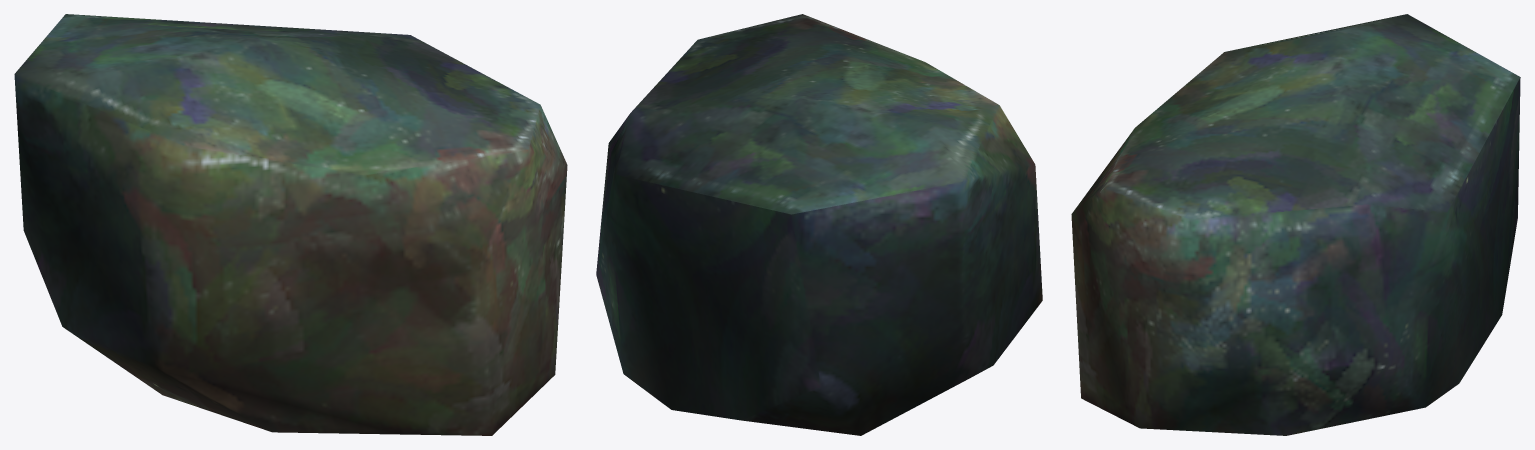
File: tinyrock2.fbx
3 views of the same model, side by side, from view 1: azimuth 30°, elevation 25°; view 2: azimuth 150°, elevation 25°; view 3: azimuth 270°, elevation 25° (orthographic). The views are drawn at different scales.
Parts seen in each view (by area): view 1: tinyrocks_1; view 2: tinyrocks_1; view 3: tinyrocks_1.
Boxes of the visible parts, x1,y1,x2,y2 form: tinyrocks_1: [14, 14, 567, 435]; tinyrocks_1: [596, 14, 1042, 435]; tinyrocks_1: [1071, 14, 1520, 435].
Bounding box in the file's own units: 81.86 × 56.25 × 84.24.
